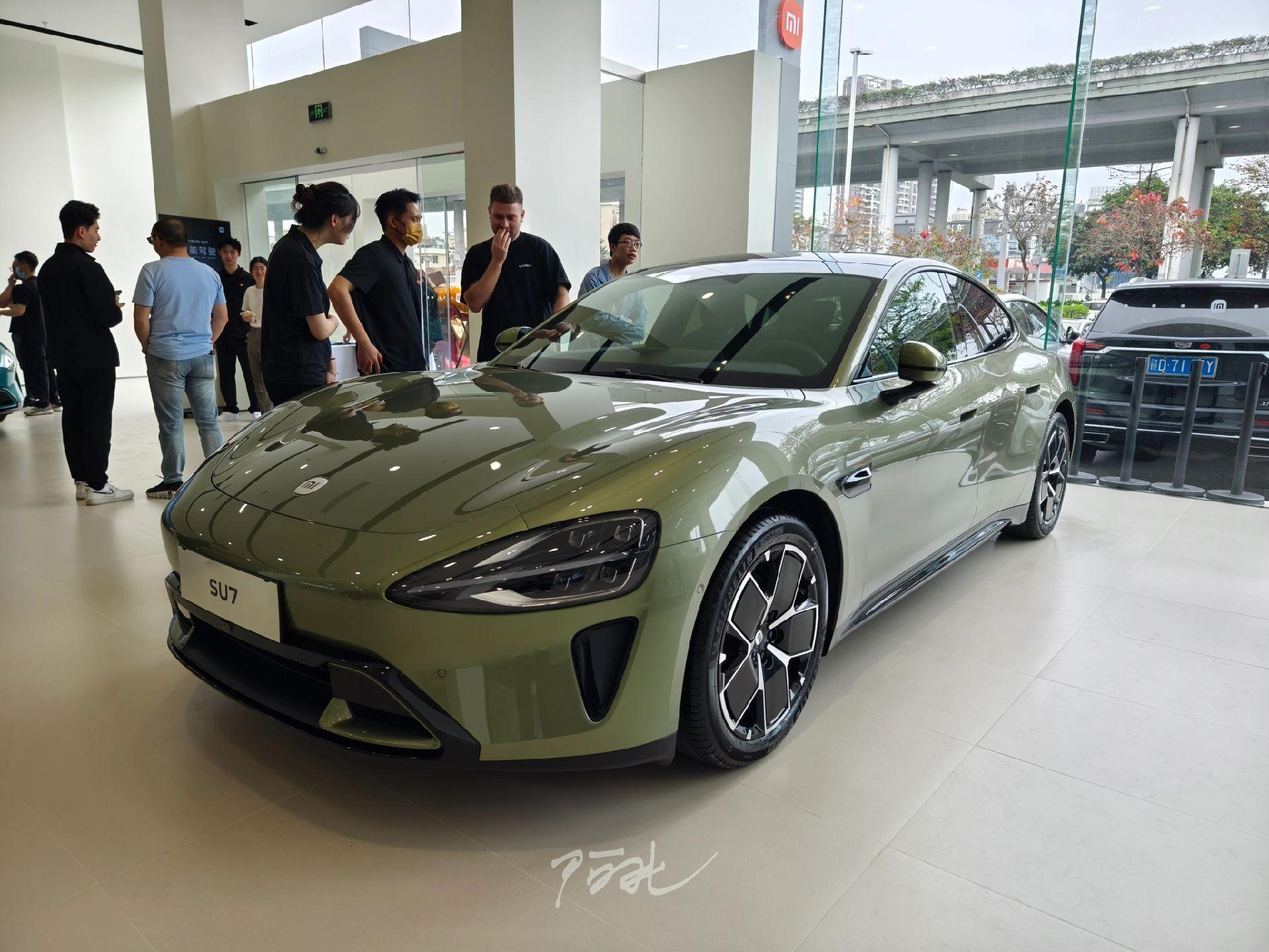other: (1069, 270, 1269, 480)
su7: (181, 257, 1093, 785)
